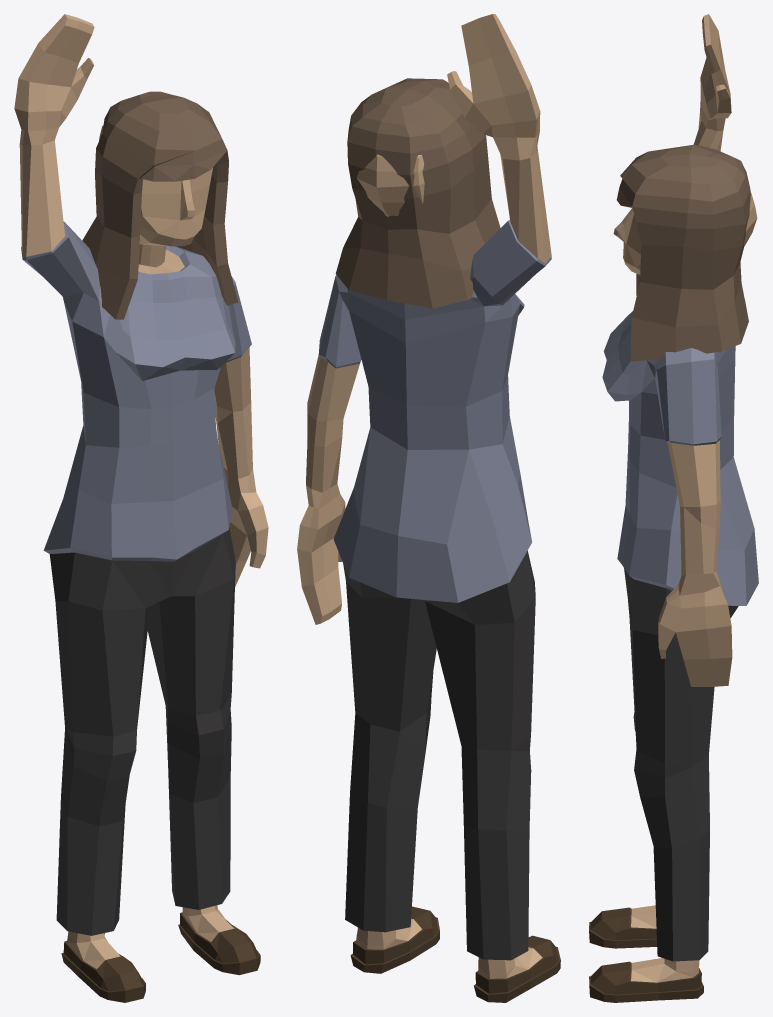
The model's file is female_wave_hair2.glb.
The picture shows the model from 3 angles, left to right: view 1: azimuth 30°, elevation 25°; view 2: azimuth 150°, elevation 25°; view 3: azimuth 270°, elevation 25°; orthographic projection. The views are drawn at different scales.
Parts seen in each view (by area): view 1: hair; view 2: hair; view 3: hair.
Boxes of the visible parts, x1=… form: hair: x1=14, y1=14, x2=268, y2=1002; hair: x1=297, y1=14, x2=560, y2=1002; hair: x1=589, y1=14, x2=758, y2=1002.
Size of the model in its own units: 0.4763 by 1.89 by 0.3156.
